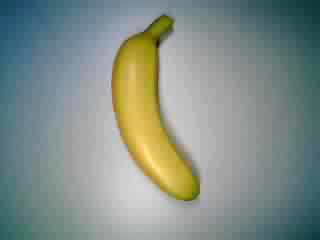banana: (107, 11, 210, 204)
